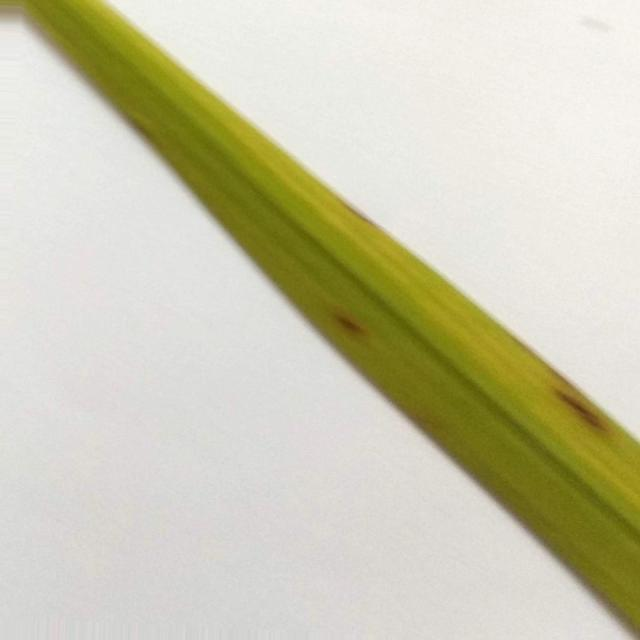Brown_Spot: (552, 380, 611, 432), (336, 195, 385, 231), (330, 306, 369, 340)
